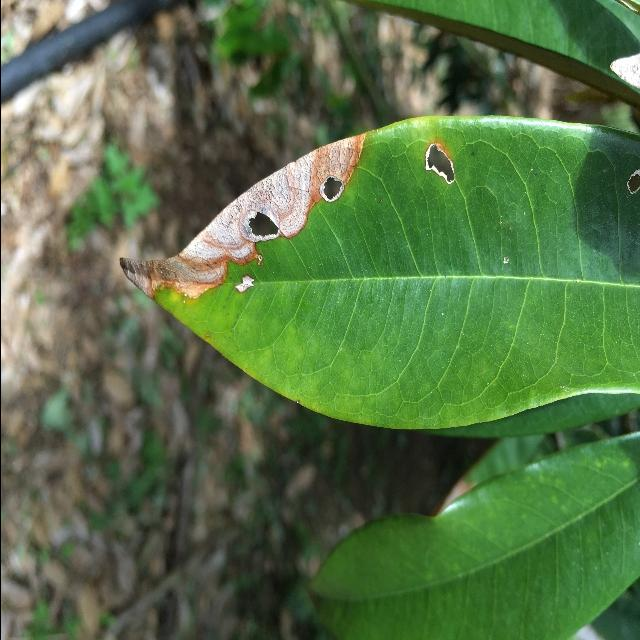Leaf Blight: (112, 108, 640, 439)
